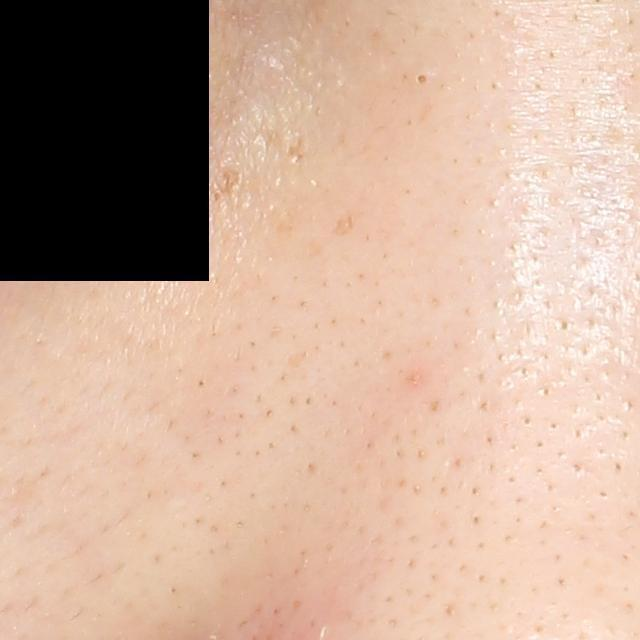comedo: (414, 70, 432, 89)
melasma: (207, 166, 245, 209), (329, 210, 356, 239), (285, 135, 304, 163)
